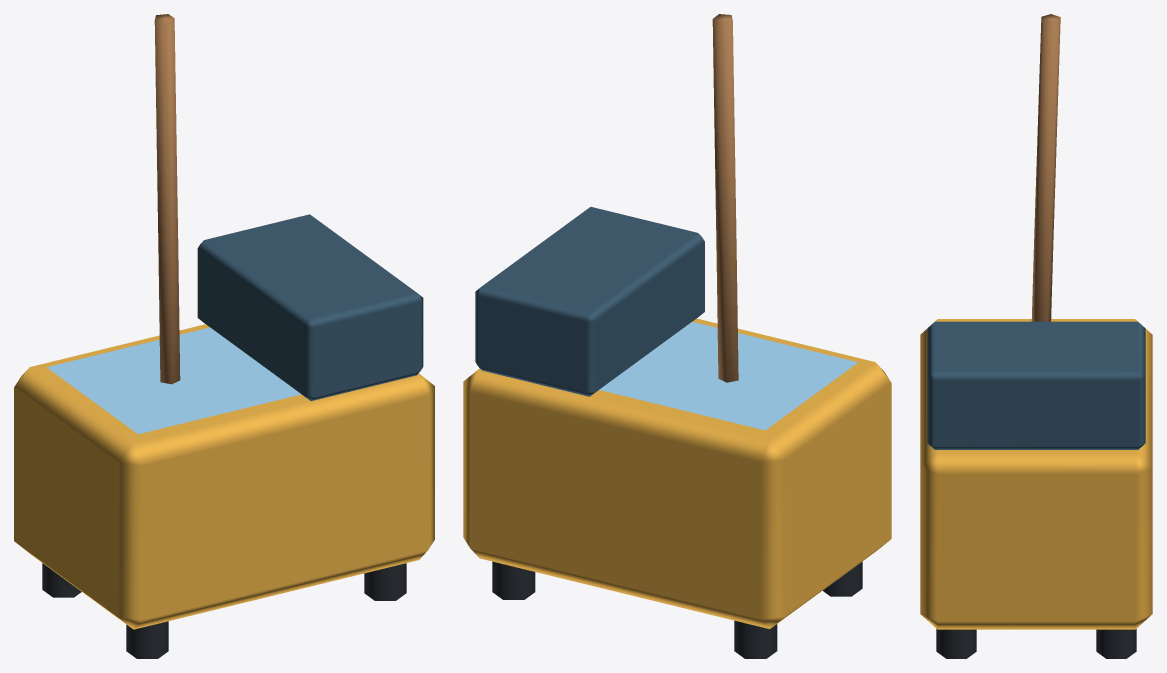
The model's file is CM_Interior_MopBucket.fbx.
3 renders of one model, left to right at view 1: azimuth 30°, elevation 25°; view 2: azimuth 150°, elevation 25°; view 3: azimuth 270°, elevation 25°, orthographic. The views are drawn at different scales.
Visible parts, largest first — view 1: Body; view 2: Body; view 3: Body.
Boxes of the visible parts, bbox=[...] form: Body: bbox=[14, 14, 434, 658]; Body: bbox=[463, 14, 891, 658]; Body: bbox=[920, 14, 1152, 658].
Bounding box in the file's own units: 2.4 × 1.6 × 4.2.
Materials: 1 (1 with a texture image).
